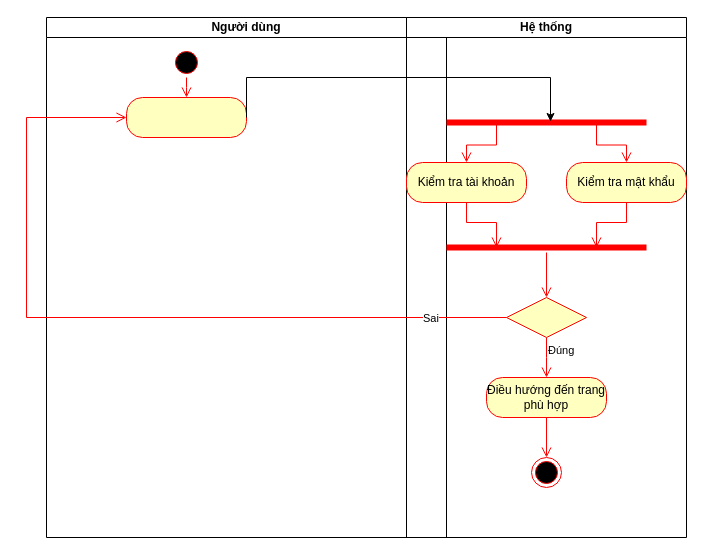
Image size: 704x555. Some labels were removed from this diagram. The shapes that lost their labels are listed below. From the top down, each one's box as (x1, y1, x2, y2) in pixels, then its label:
(126, 96, 246, 138): Nhập tài khoản, mật khẩu
(506, 296, 586, 338): kiểm tra
